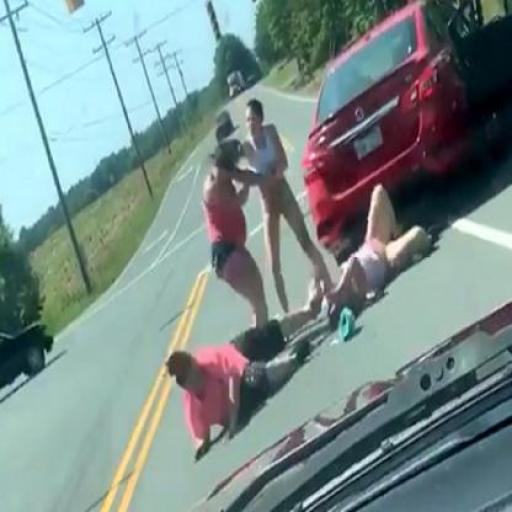Fighting: (158, 95, 443, 457)
